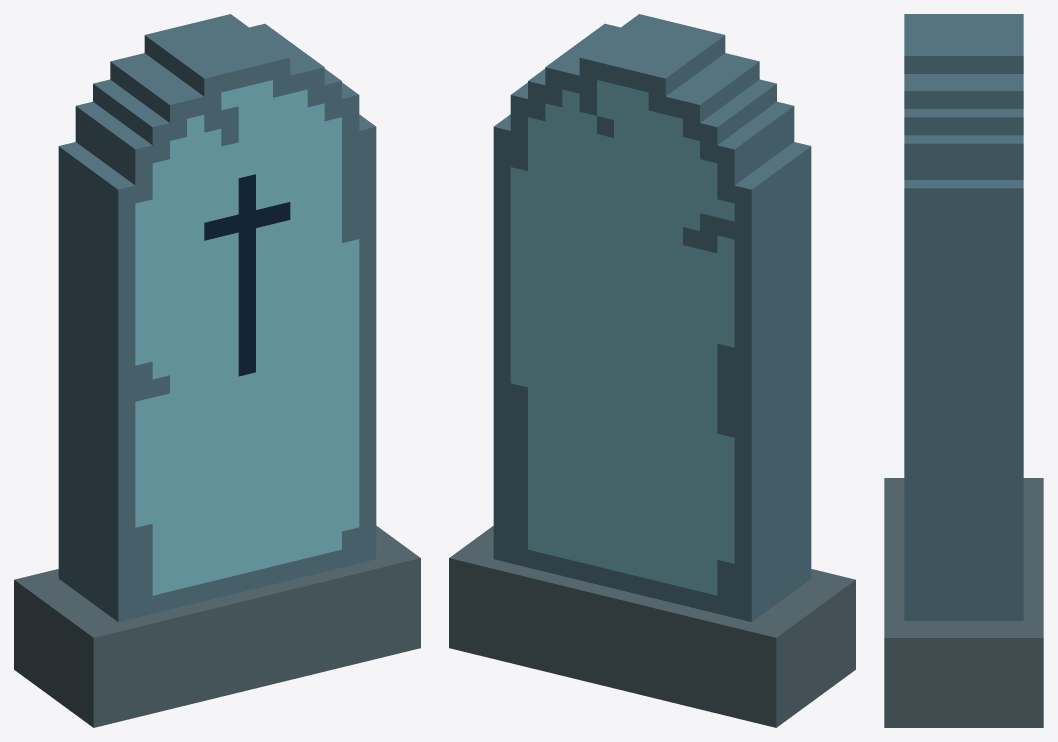
The model's file is grave_3.gltf.
3 renders of one model, left to right at view 1: azimuth 30°, elevation 25°; view 2: azimuth 150°, elevation 25°; view 3: azimuth 270°, elevation 25°, orthographic.
Visible parts, largest first — view 1: Node1; view 2: Node1; view 3: Node1.
Boxes of the visible parts, left/top/right/bottom form: Node1: left=14, top=14, right=420, bottom=727; Node1: left=449, top=14, right=855, bottom=727; Node1: left=884, top=14, right=1043, bottom=727.
Bounding box in the file's own units: 1.9 × 3.4 × 0.8.
Materials: 1 (1 with a texture image).
